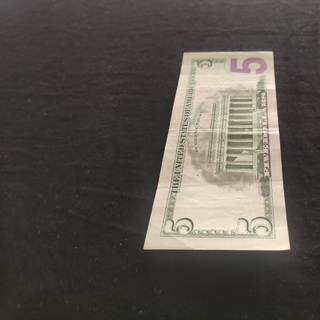5USDBack: (143, 51, 291, 255)
